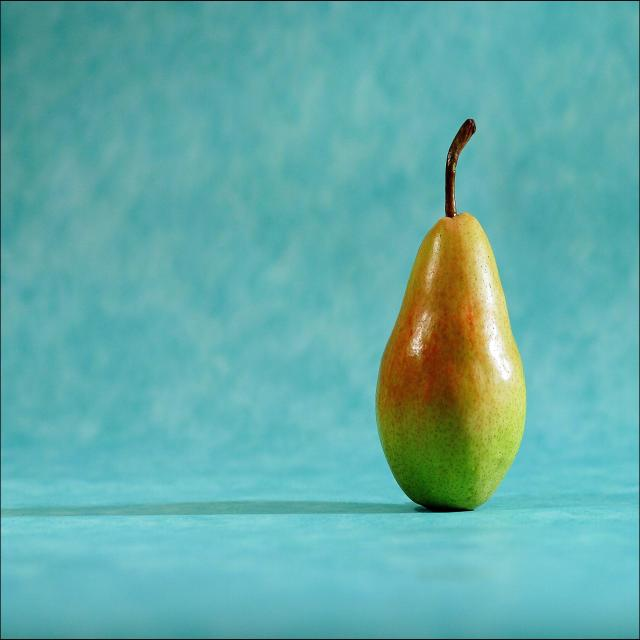pera: (364, 97, 540, 544)
